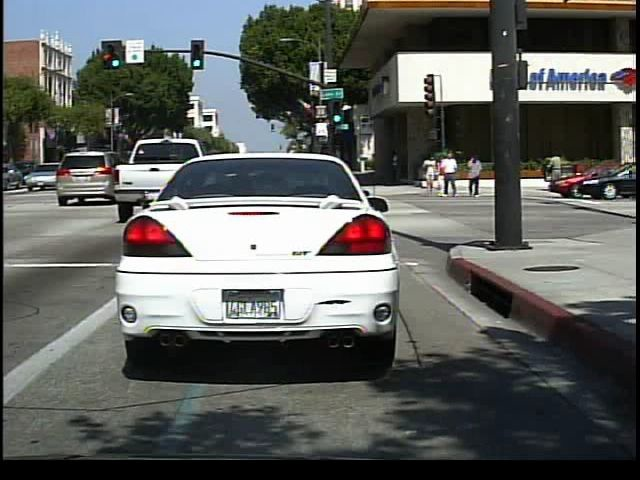person: (440, 146, 461, 199), (466, 148, 487, 199), (545, 148, 568, 193), (422, 150, 442, 199)
